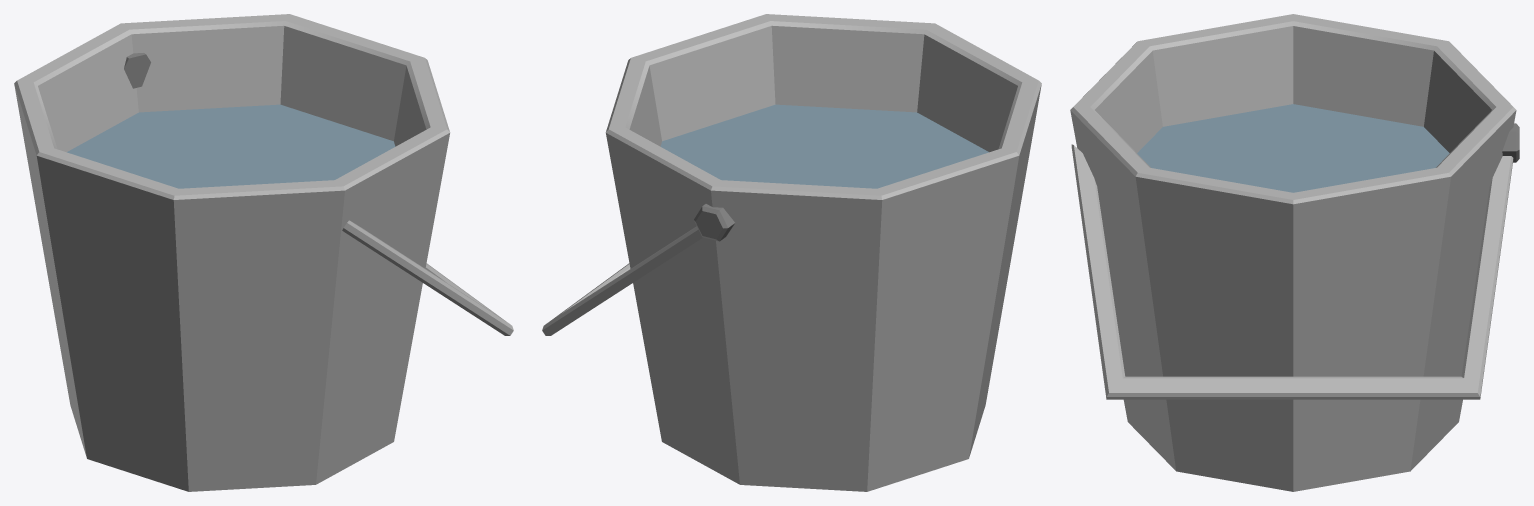
Rendered from Bucket.fbx.
3 views of the same model, side by side, from view 1: azimuth 30°, elevation 25°; view 2: azimuth 150°, elevation 25°; view 3: azimuth 270°, elevation 25° (orthographic).
Visible parts, largest first — view 1: pCylinder3; view 2: pCylinder3; view 3: pCylinder3.
Part boxes in pixels (x1=…): pCylinder3: x1=14, y1=14, x2=513, y2=491; pCylinder3: x1=542, y1=14, x2=1041, y2=491; pCylinder3: x1=1070, y1=14, x2=1519, y2=491.
Size of the model in its own units: 2 by 1.55 by 2.01.
